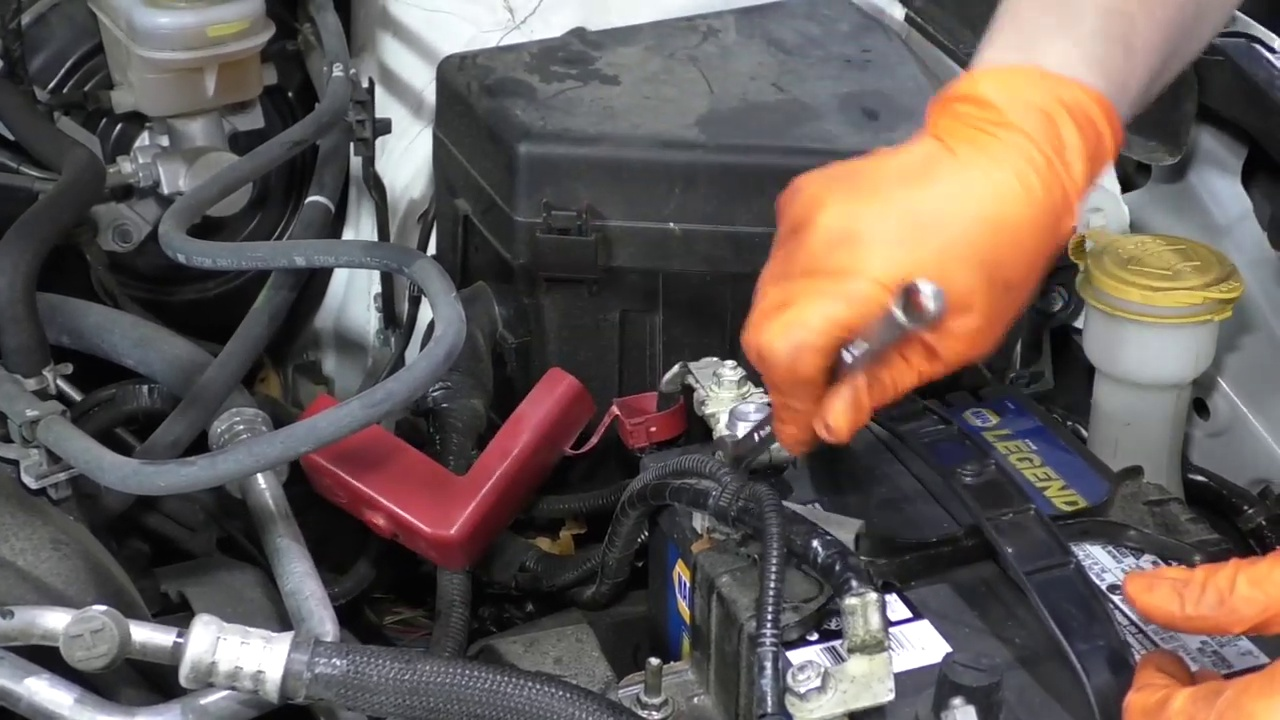battery: (617, 373, 1280, 719)
pos_connected: (526, 333, 793, 511)
pos_touched: (666, 276, 893, 493)
